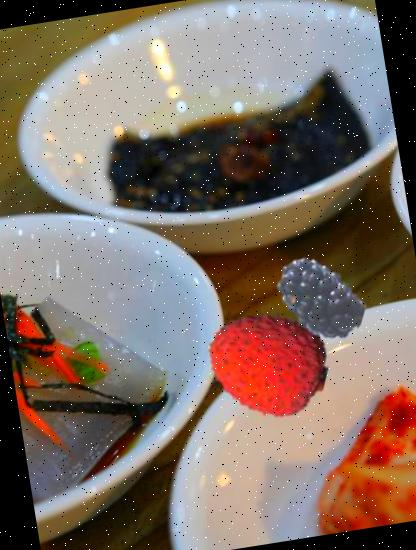Lychee: (198, 296, 336, 434)
Mulberry: (266, 246, 374, 354)
